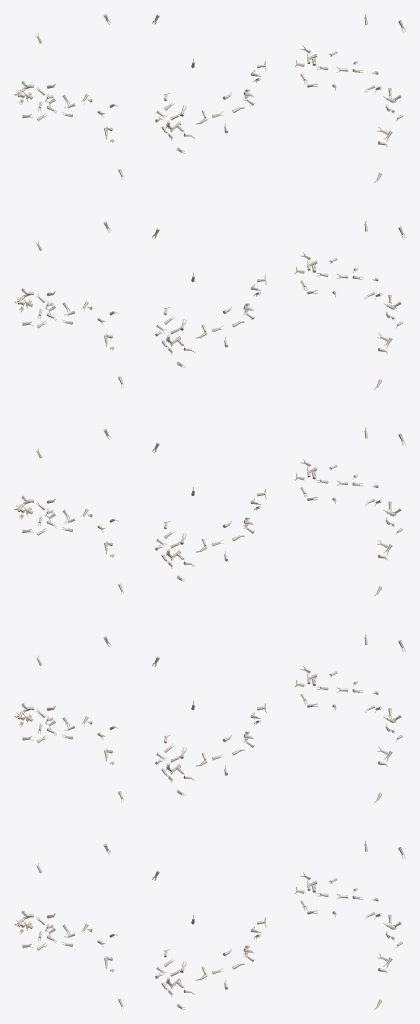
Rendered from Circle2Crowd4.obj.
3 views of the same model, side by side, from view 1: azimuth 30°, elevation 25°; view 2: azimuth 150°, elevation 25°; view 3: azimuth 330°, elevation 25° (orthographic). The views are drawn at different scales.
Parts seen in each view (by area): view 1: Circle2Crowd4; view 2: Circle2Crowd4; view 3: Circle2Crowd4.
Part boxes in pixels (<box>): Circle2Crowd4: <box>14,14,123,1009</box>; Circle2Crowd4: <box>152,14,266,1009</box>; Circle2Crowd4: <box>295,14,405,1009</box>.
Size of the model in its own units: 32.13 by 307 by 24.72.
1 material, 1 textured.
